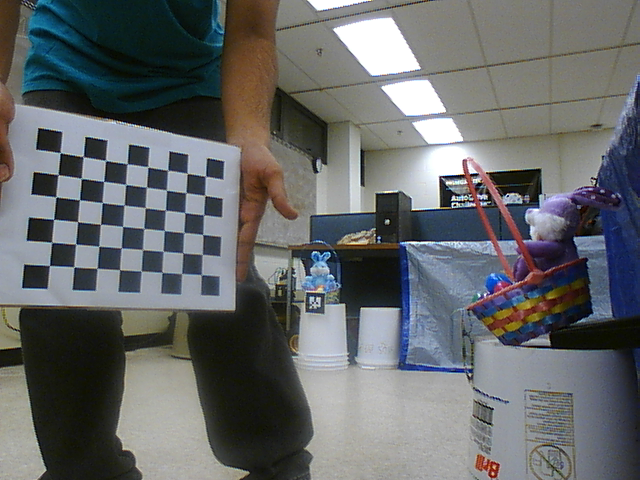bunny: (450, 156, 609, 348)
